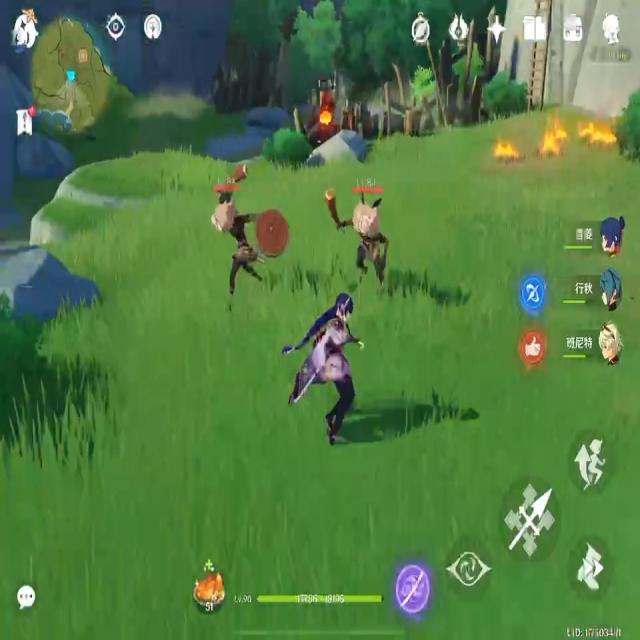genshin-hilichurls: (207, 157, 274, 314), (326, 172, 402, 294)
